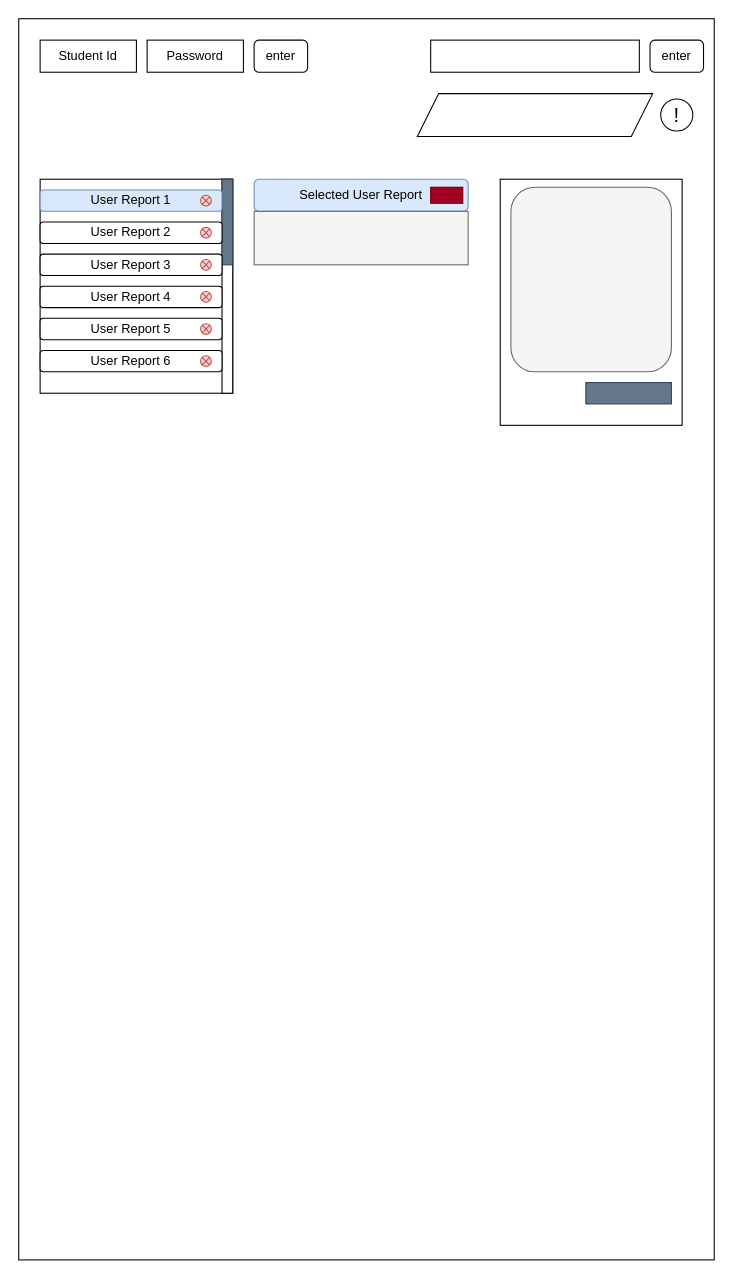
The diagram is 733 pixels wide and 1279 high, and some of its shapes have lost their labels. The centre of each missing label's shape, as x and y in pixels:
"BAN" goes at point 446,194.
"Check out" goes at point 534,114.
"Details of user report" goes at point 360,237.
"Enter reason for banning" goes at point 590,279.
"Item Search" goes at point 534,55.
"Submit" goes at point 628,392.
